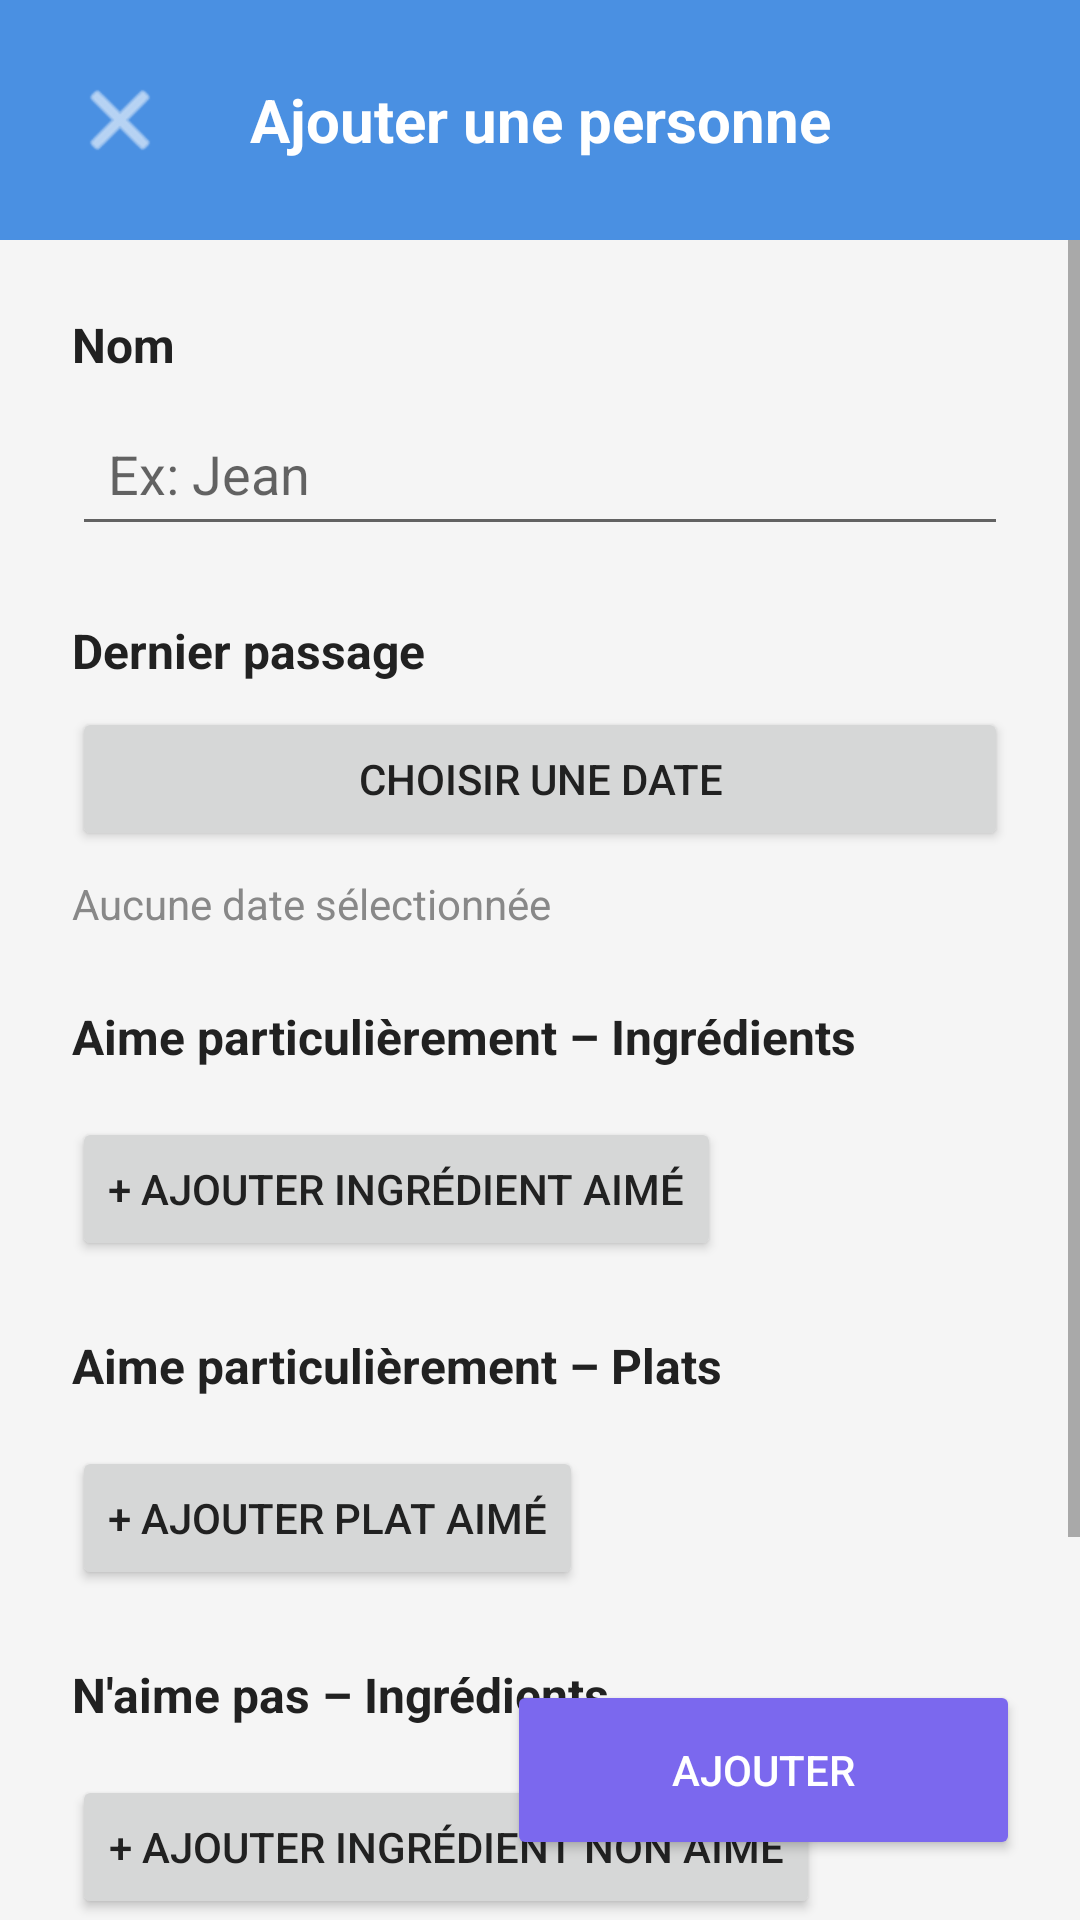

Icon bounding boxes for this 1080 × 1920 phone screenshot, format (x1, y1, x2, y2):
Retour: (90, 90, 150, 150)
